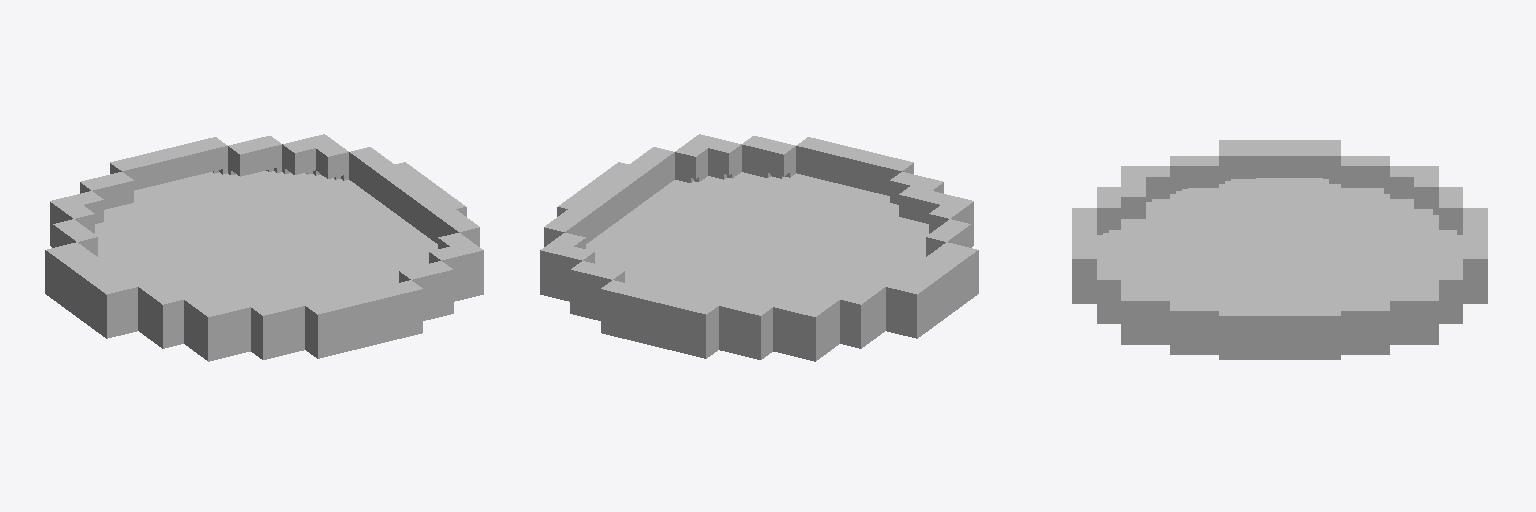
File: tarelka 2.obj
3 views of the same model, side by side, from view 1: azimuth 30°, elevation 25°; view 2: azimuth 150°, elevation 25°; view 3: azimuth 270°, elevation 25° (orthographic).
Size of the model in its own units: 68 by 10 by 68.